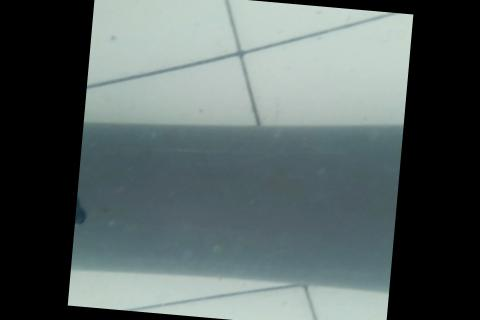kebocoran: (74, 189, 91, 226)
